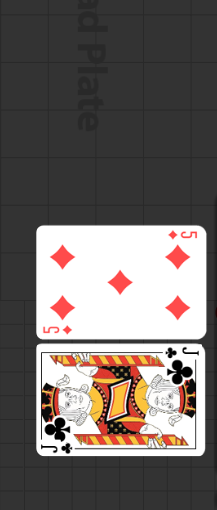5D: (43, 323, 75, 335)
JC: (40, 441, 75, 455)
